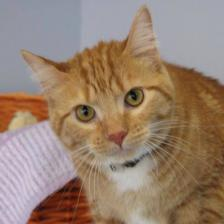cat: (23, 12, 183, 174)
